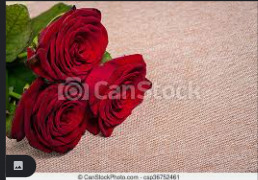RedRose: (8, 73, 87, 155), (27, 7, 112, 82), (87, 56, 157, 140)
